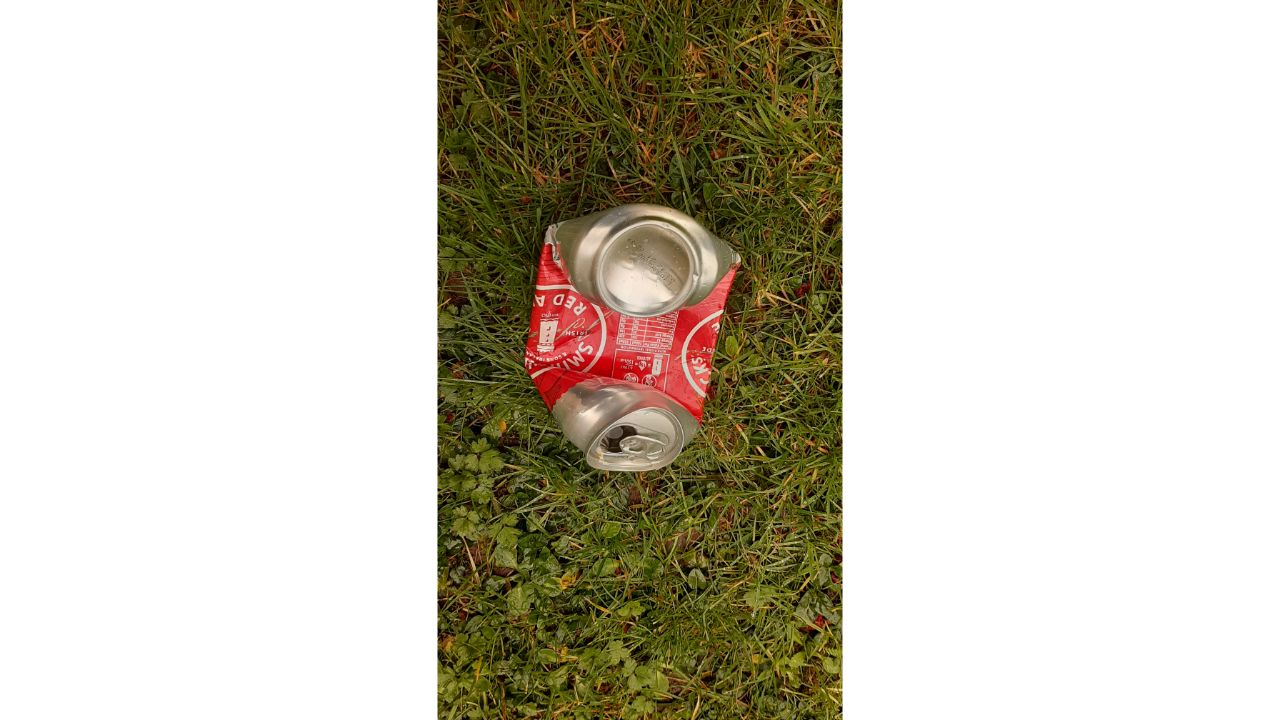Can: (524, 203, 742, 472)
